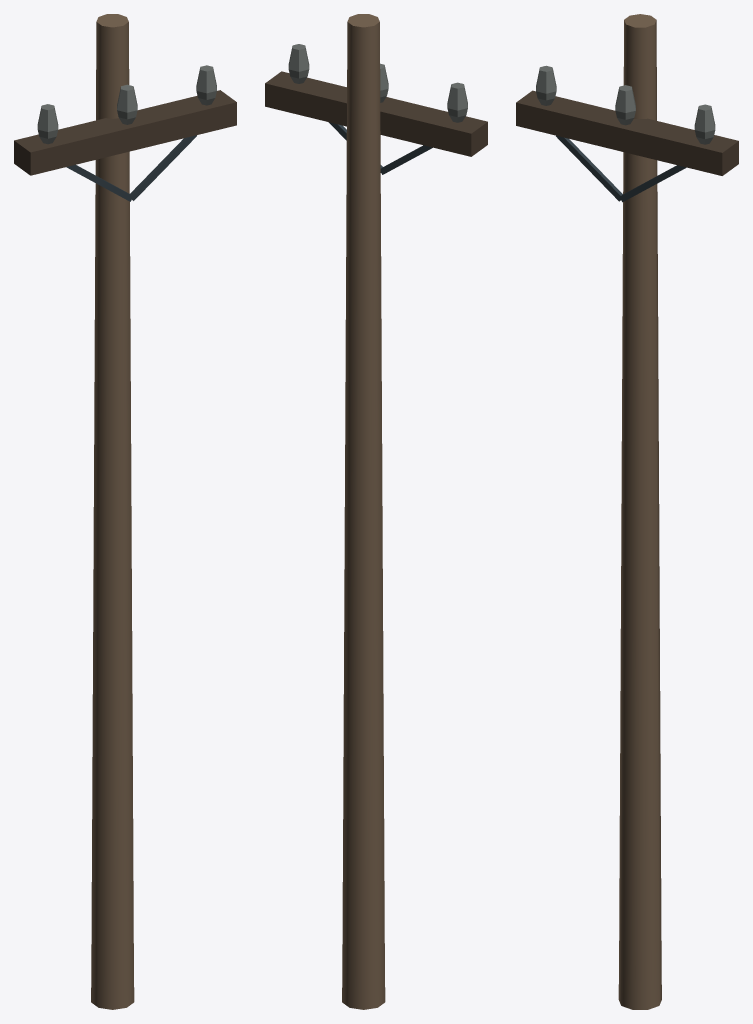
File: Utility_Pole.fbx
3 renders of one model, left to right at view 1: azimuth 30°, elevation 25°; view 2: azimuth 150°, elevation 25°; view 3: azimuth 330°, elevation 25°, orthographic.
Parts seen in each view (by area): view 1: Utility_Pole; view 2: Utility_Pole; view 3: Utility_Pole.
Part boxes in pixels (box(x1,y1,x2,y2)): Utility_Pole: box(14, 14, 236, 1009); Utility_Pole: box(265, 14, 487, 1009); Utility_Pole: box(516, 14, 738, 1009).
Size of the model in its own units: 1.3 by 5.9 by 0.3482.
